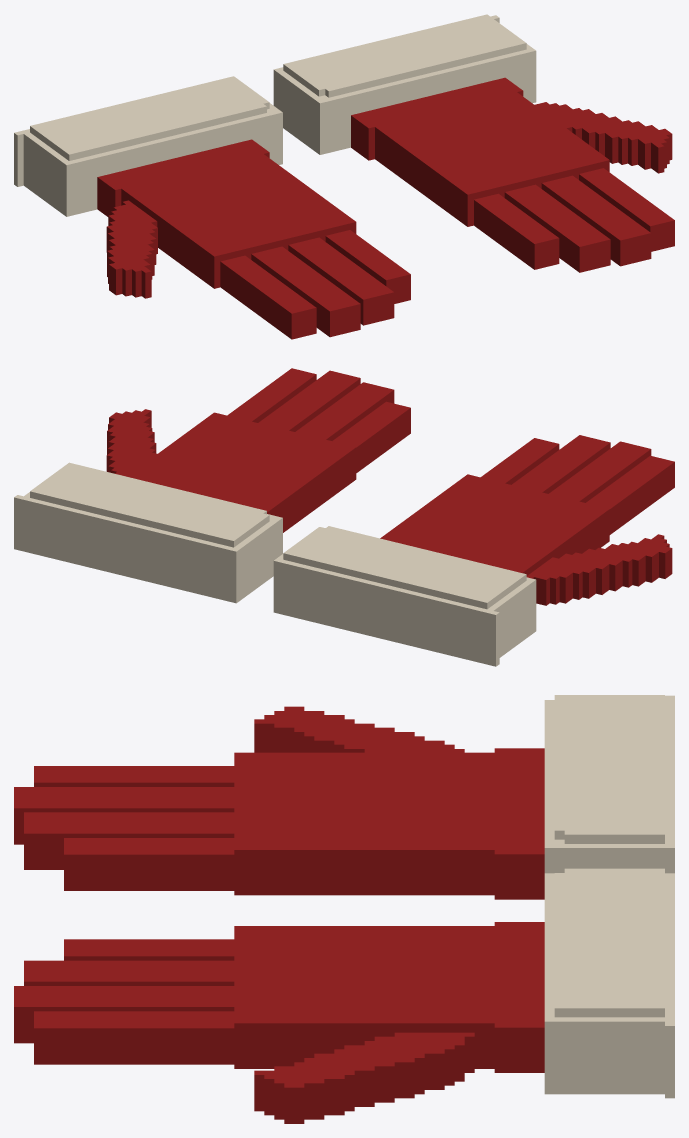
File: santa_gloves.glb
3 renders of one model, top to bottom at view 1: azimuth 30°, elevation 25°; view 2: azimuth 150°, elevation 25°; view 3: azimuth 270°, elevation 25°, orthographic. The views are drawn at different scales.
Parts seen in each view (by area): view 1: santa_gloves:compound; view 2: santa_gloves:compound; view 3: santa_gloves:compound.
Part boxes in pixels (x1,y1,x2,y2): santa_gloves:compound: (14,14,674,339); santa_gloves:compound: (14,368,674,666); santa_gloves:compound: (14,695,674,1123).
Bounding box in the file's own units: 0.36 × 0.036 × 0.264.
